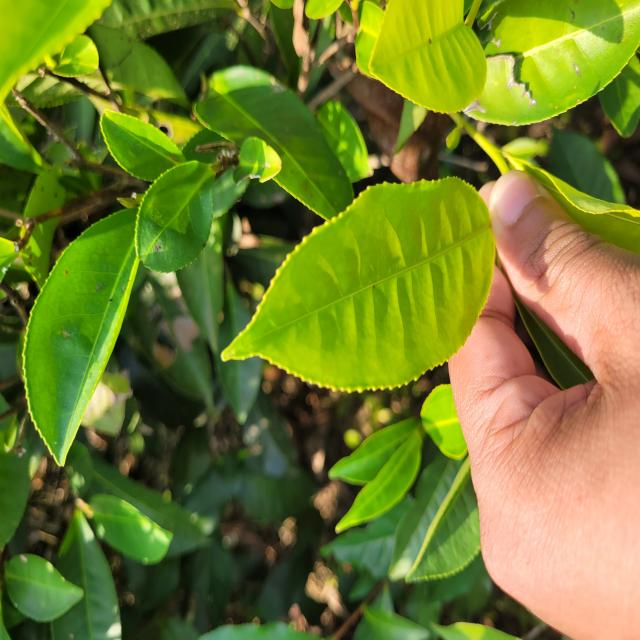Category B(2-4 days): (206, 161, 512, 409)
